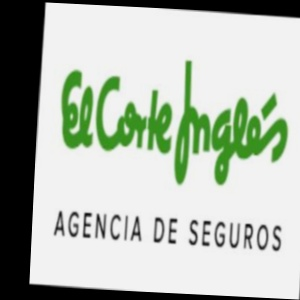corte_ingles: (281, 45, 300, 106)
